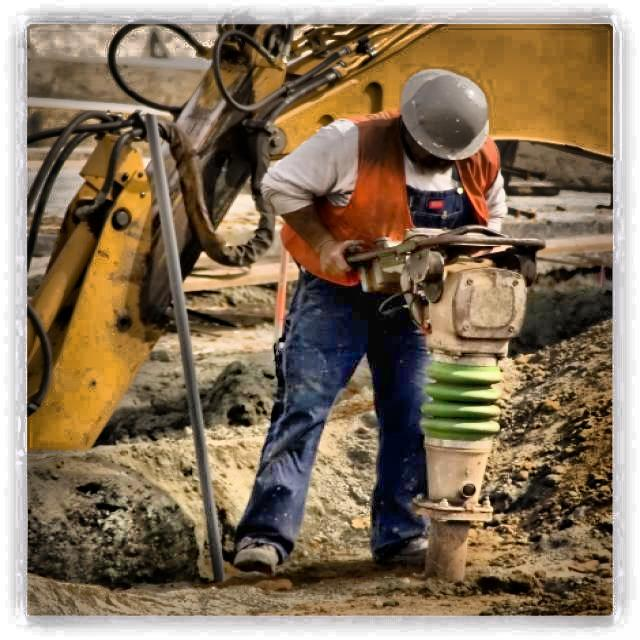person: (245, 59, 523, 564)
